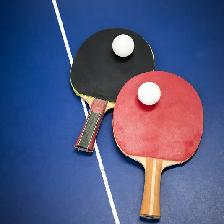WhiteBall: (136, 81, 160, 105), (111, 34, 134, 57)
